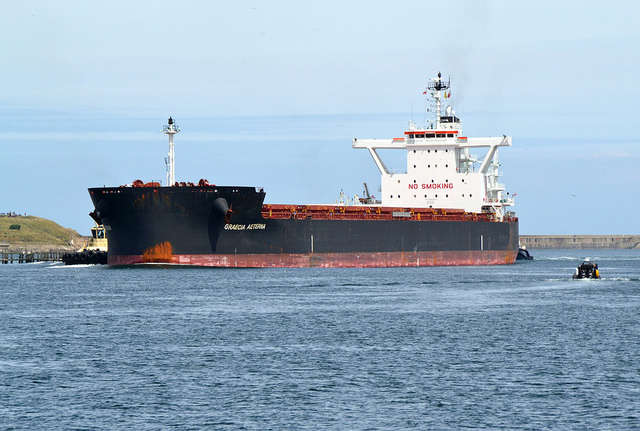boat: (573, 258, 604, 284)
bulk carrier: (94, 72, 520, 264)
tug_boat: (61, 212, 108, 271)
